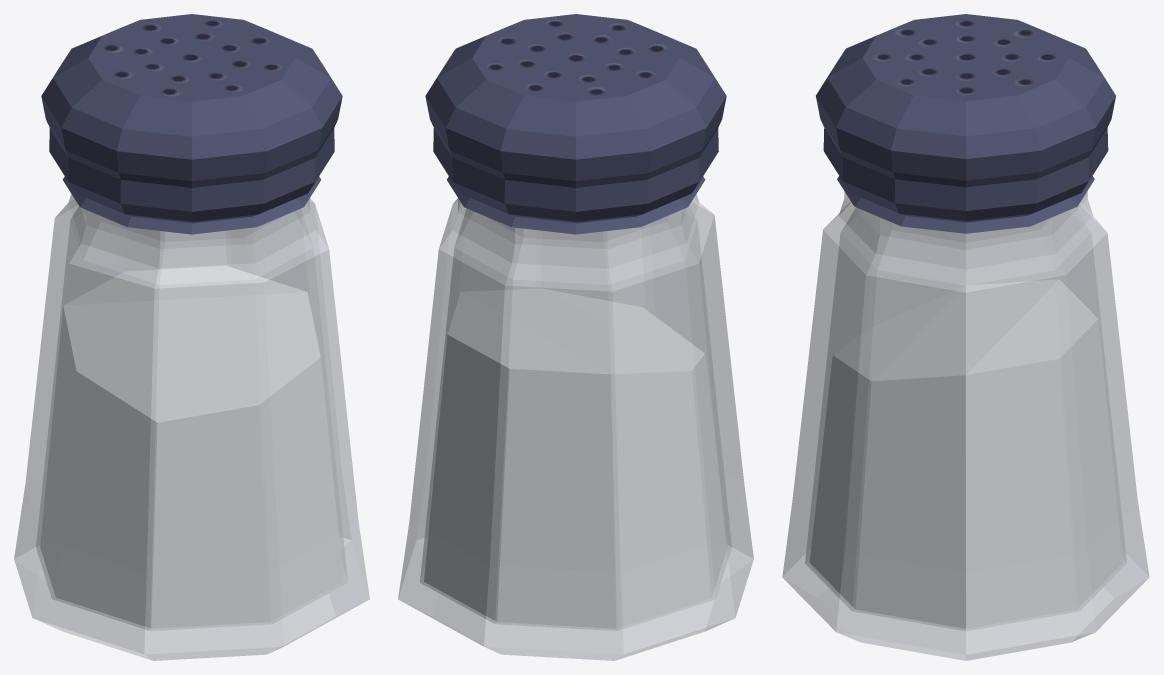
File: f_saltshaker.fbx
3 renders of one model, left to right at view 1: azimuth 30°, elevation 25°; view 2: azimuth 150°, elevation 25°; view 3: azimuth 270°, elevation 25°, orthographic.
Visible parts, largest first — view 1: saltshaker_body, salt_inside, salt_cap; view 2: saltshaker_body, salt_inside, salt_cap; view 3: saltshaker_body, salt_inside, salt_cap.
Part boxes in pixels (box(x1,y1,x2,y2)): saltshaker_body: box(14, 194, 369, 660); salt_inside: box(40, 266, 343, 628); salt_cap: box(41, 14, 342, 234); saltshaker_body: box(398, 194, 753, 660); salt_inside: box(424, 288, 727, 628); salt_cap: box(425, 14, 726, 234); saltshaker_body: box(782, 191, 1149, 660); salt_inside: box(810, 279, 1122, 628); salt_cap: box(816, 14, 1115, 233).
Bounding box in the file's own units: 13.55 × 13.55 × 22.
